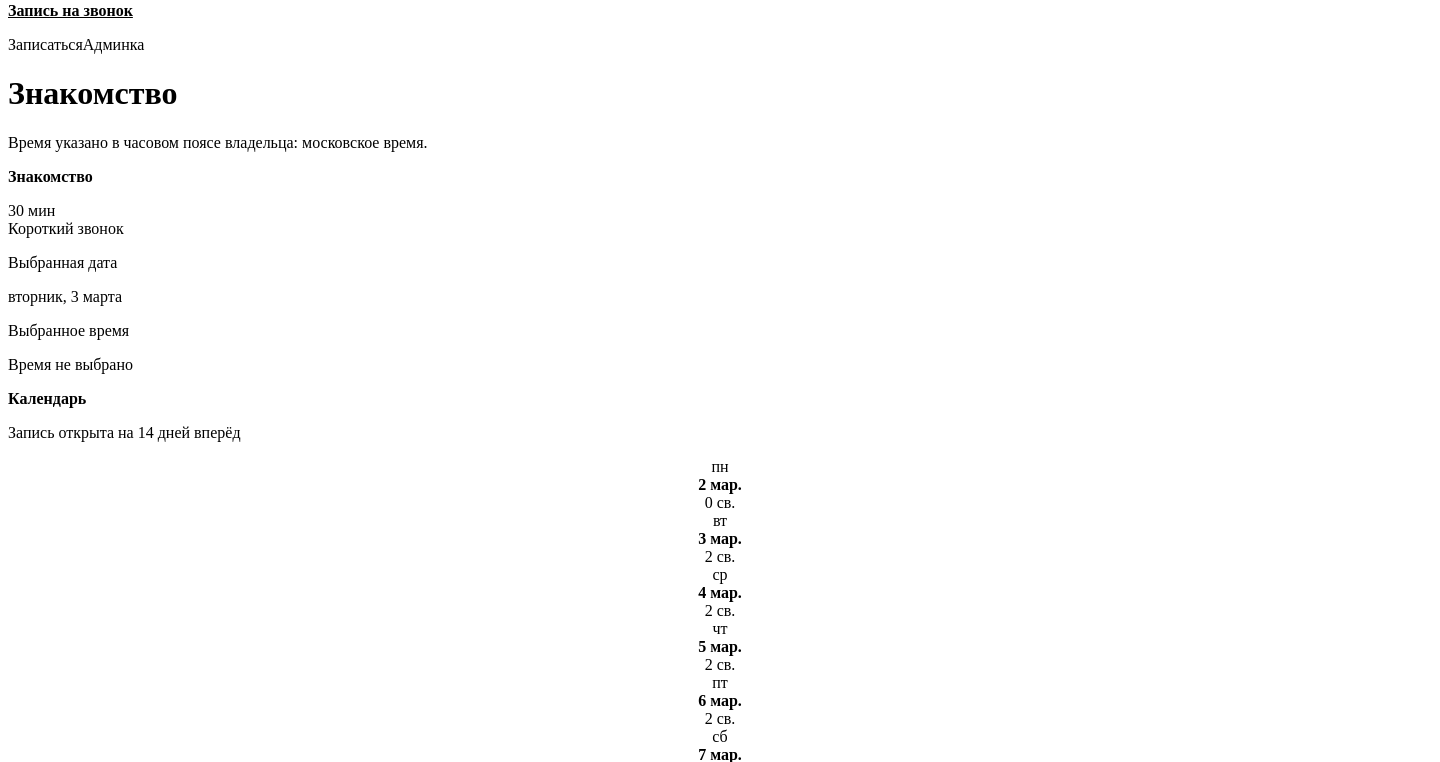
Test: слоты, которые сегодня уже начались, помечены «Прошло», а не «Занято»
What coordinates should you click on to do the following:
click the button "пн 2 мар. 0 св."
I would click on:
 (720, 485)
Its box is [8, 458, 1432, 512].
(page scrolled)
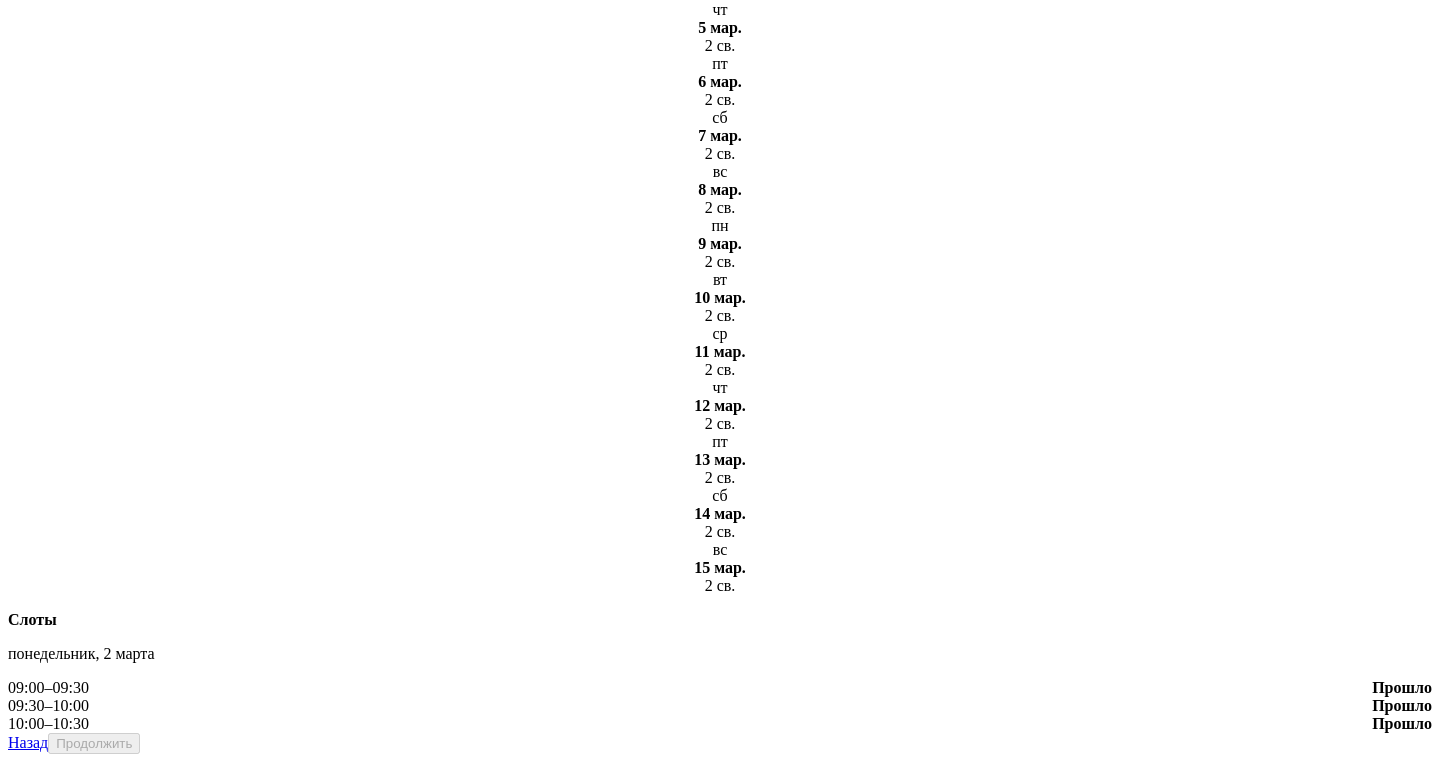
Result: the button "09:00–09:30 Прошло" is shown at [8, 679, 1432, 697]
Result: the button "09:00–09:30 Прошло" is disabled at [8, 679, 1432, 697]
